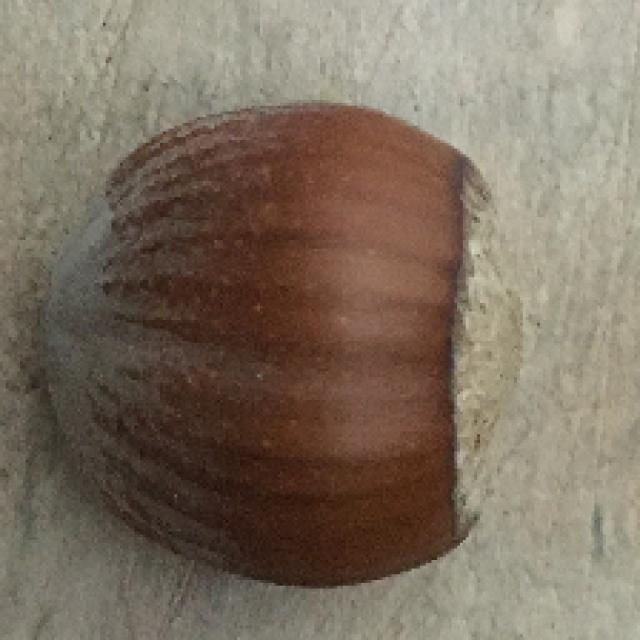QualityHazelnut: (42, 99, 525, 595)
